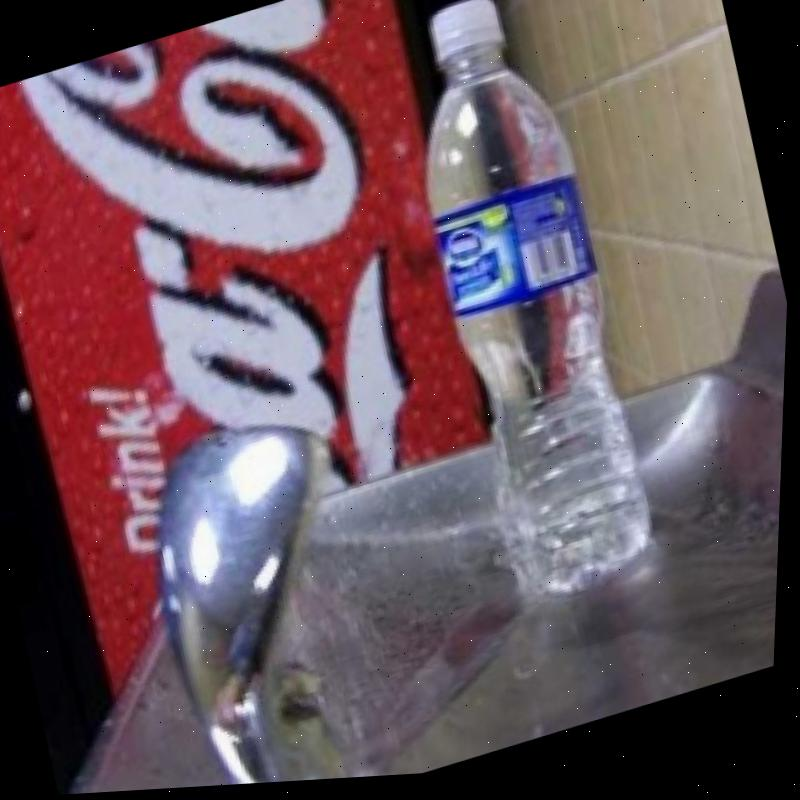botella: (370, 0, 682, 621)
